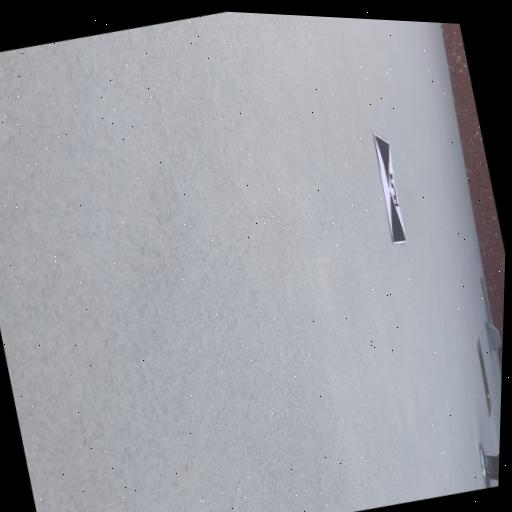target5: (374, 134, 409, 244)
